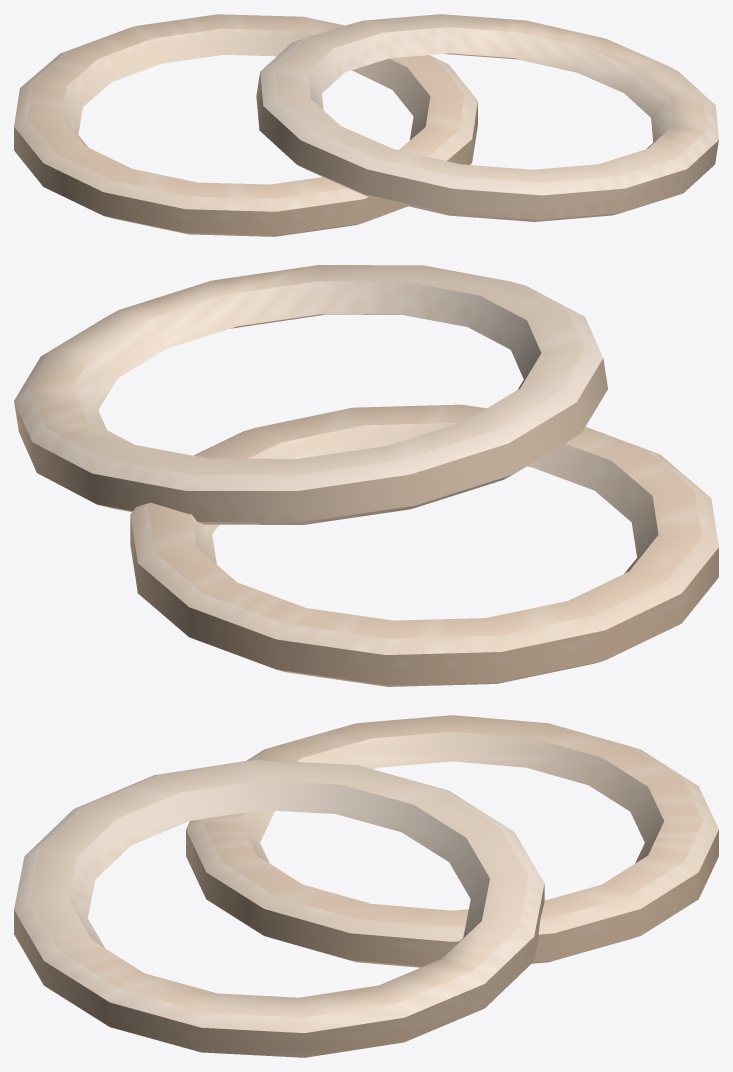
Rendered from food_ingredient_onion_rings.gltf.
3 views of the same model, one above another, from view 1: azimuth 30°, elevation 25°; view 2: azimuth 150°, elevation 25°; view 3: azimuth 270°, elevation 25° (orthographic). The views are drawn at different scales.
Visible parts, largest first — view 1: food_ingredient_onion_rings; view 2: food_ingredient_onion_rings; view 3: food_ingredient_onion_rings.
Part boxes in pixels (x1,y1,x2,y2): food_ingredient_onion_rings: (14,14,718,236); food_ingredient_onion_rings: (14,265,718,686); food_ingredient_onion_rings: (14,715,718,1057).
Bounding box in the file's own units: 0.7758 × 0.1064 × 0.7296.
Materials: 1 (1 with a texture image).
